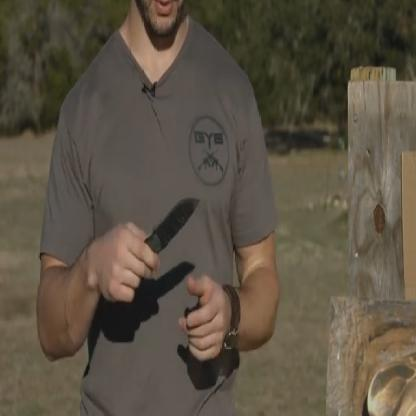knife: (98, 182, 207, 304)
